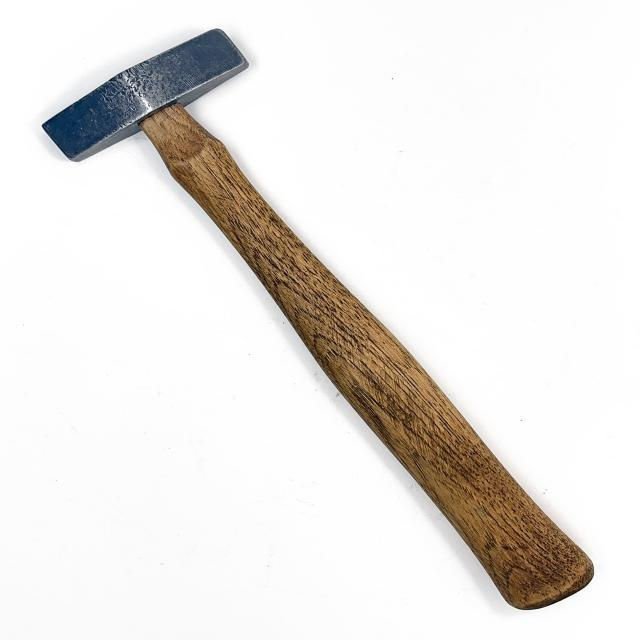hammer: (32, 16, 606, 634)
